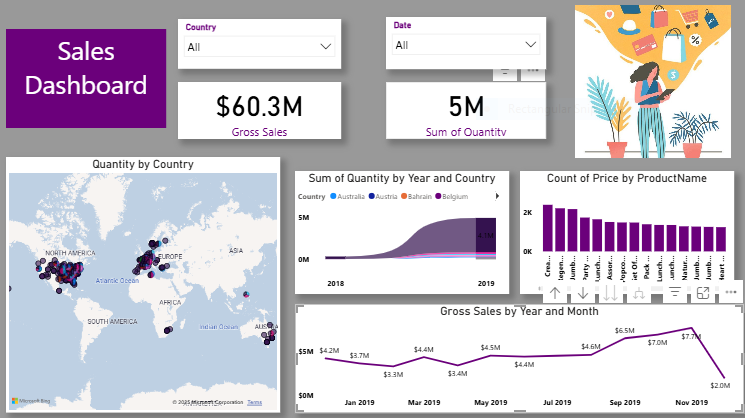

What the dashboard file says about the page in this screenshot:
{"tool":"powerbi","page":{"name":"Page 1","canvas":[1280,720],"ordinal":0},"visuals":[{"type":"map","title":"Quantity by Country","fields":{"Category":["Last_clean_data.Quantity"],"Series":["Last_clean_data.Country"]},"box":[25,273.3,457,426.1],"z":0},{"type":"lineChart","fields":{"Y":["Last_clean_data.Gross Sales"],"Category":["Last_clean_data.Date.Variation.Date Hierarchy.Year","Last_clean_data.Date.Variation.Date Hierarchy.Month"]},"box":[506.7,518.3,748.3,181.7],"z":1000},{"type":"ribbonChart","fields":{"Y":["Sum(Last_clean_data.Quantity)"],"Category":["Last_clean_data.Date.Variation.Date Hierarchy.Year"],"Series":["Last_clean_data.Country"]},"box":[506.7,296.7,356.7,205],"z":2000},{"type":"card","fields":{"Values":["Last_clean_data.Gross Sales"]},"box":[311.7,148.3,271.7,95],"z":3000},{"type":"columnChart","fields":{"Category":["Last_clean_data.ProductName"],"Y":["CountNonNull(Last_clean_data.Price)"]},"box":[881.7,296.7,356.7,205],"z":3001},{"type":"card","fields":{"Values":["Sum(Last_clean_data.Quantity)"]},"box":[658.3,148.3,266.7,95],"z":3002},{"type":"slicer","fields":{"Values":["Last_clean_data.Date"]},"box":[658.3,40,266.7,86.7],"z":3003},{"type":"slicer","fields":{"Values":["Last_clean_data.Country"]},"box":[311.7,43.3,271.7,83.3],"z":3004},{"type":"textbox","box":[25,60,266.7,165],"z":3005},{"type":"image","box":[968.3,15,270,265],"z":3006}]}

Visuals, with their boxes in screenshot pixels (x1, y1, x2, y2), scaled from the page's 1280x720 canvas onto the 745x418 screenshot:
"Quantity by Country" map: 15 159 281 406
lineChart - Last_clean_data.Gross Sales x Last_clean_data.Date.Variation.Date Hierarchy.Year: 295 301 730 406
ribbonChart - Sum(Last_clean_data.Quantity) x Last_clean_data.Date.Variation.Date Hierarchy.Year: 295 172 503 291
card - Last_clean_data.Gross Sales: 181 86 340 141
columnChart - Last_clean_data.ProductName x CountNonNull(Last_clean_data.Price): 513 172 721 291
card - Sum(Last_clean_data.Quantity): 383 86 538 141
slicer - Last_clean_data.Date: 383 23 538 74
slicer - Last_clean_data.Country: 181 25 340 73
textbox: 15 35 170 131
image: 564 9 721 163
